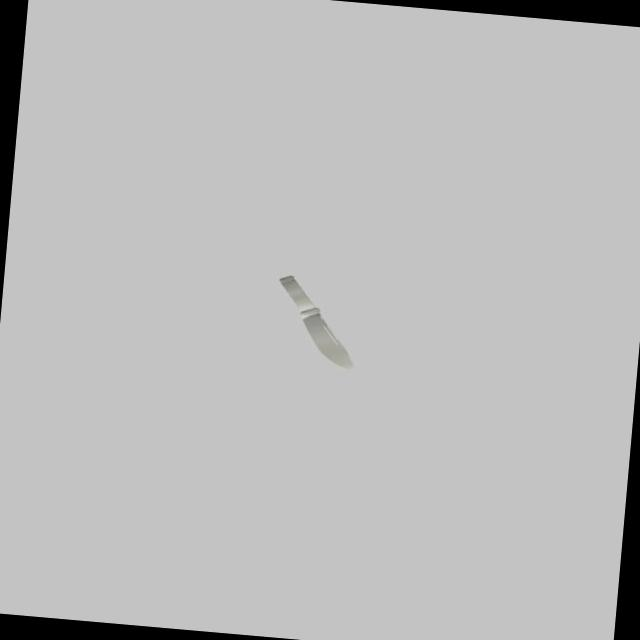knife: (275, 274, 320, 318)
